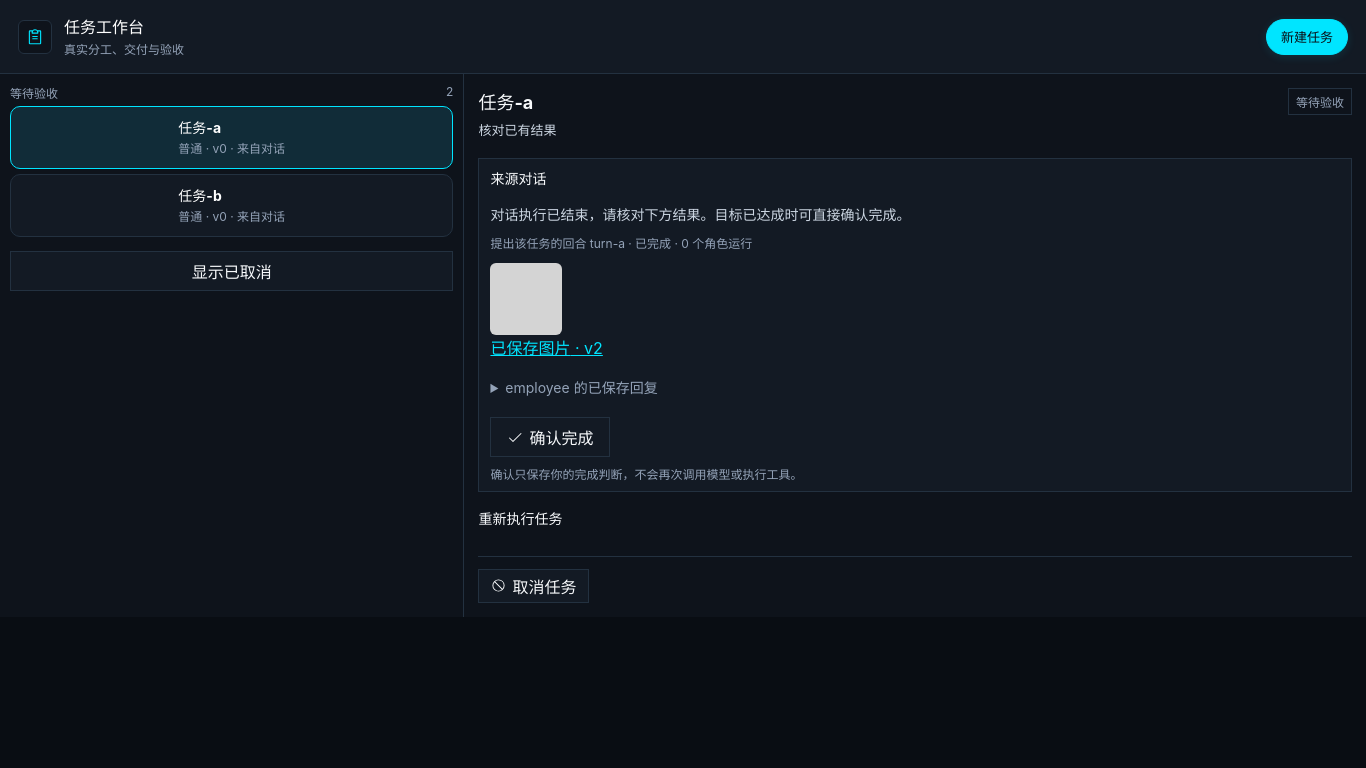
Test: keeps a delayed confirmation with its original task while the owner selects another
This screenshot has width=1366, height=768.
Click the button "确认完成".
click(550, 437)  # box [490, 417, 610, 457]
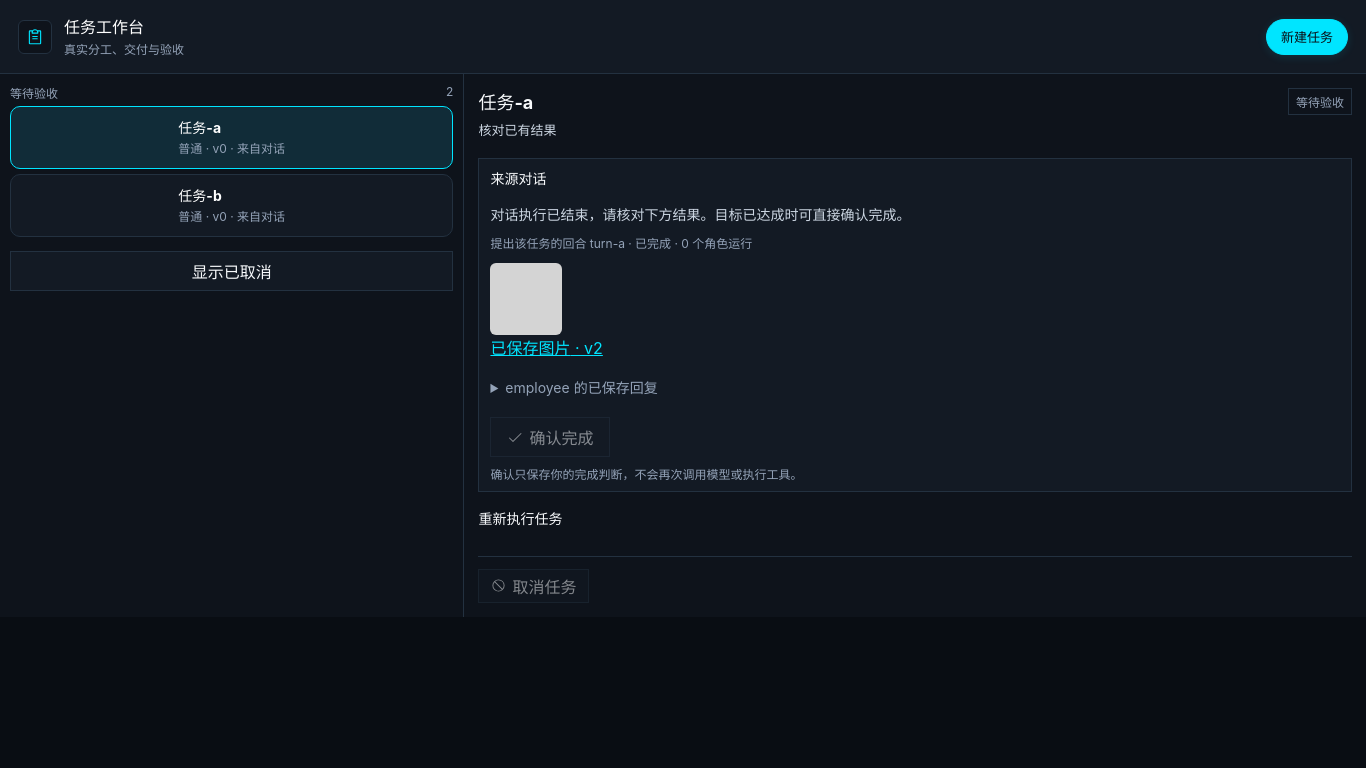
Click the button "任务-b 普通 · v0 · 来自对话".
click(200, 196)  # box [23, 185, 440, 226]
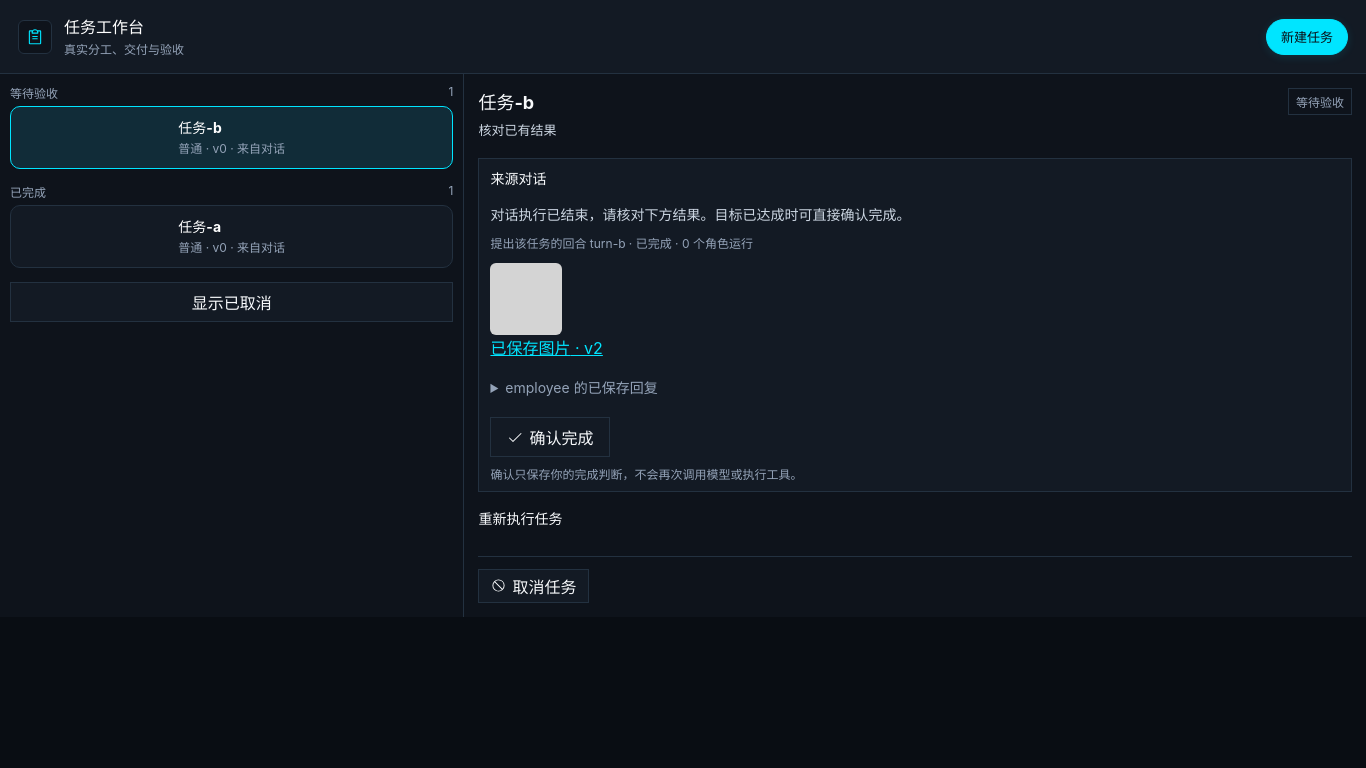
Expected: the element with class "task-status" does not show "已完成"
Expected: the heading "任务-b" is shown, [478, 92, 534, 113]
